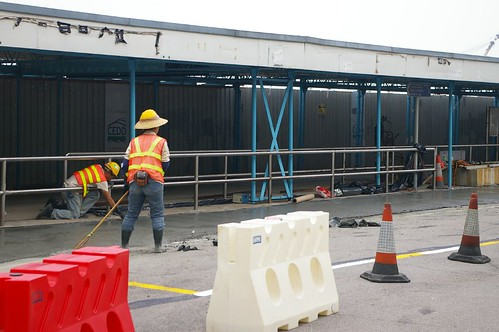person hardhat: (43, 159, 128, 225)
